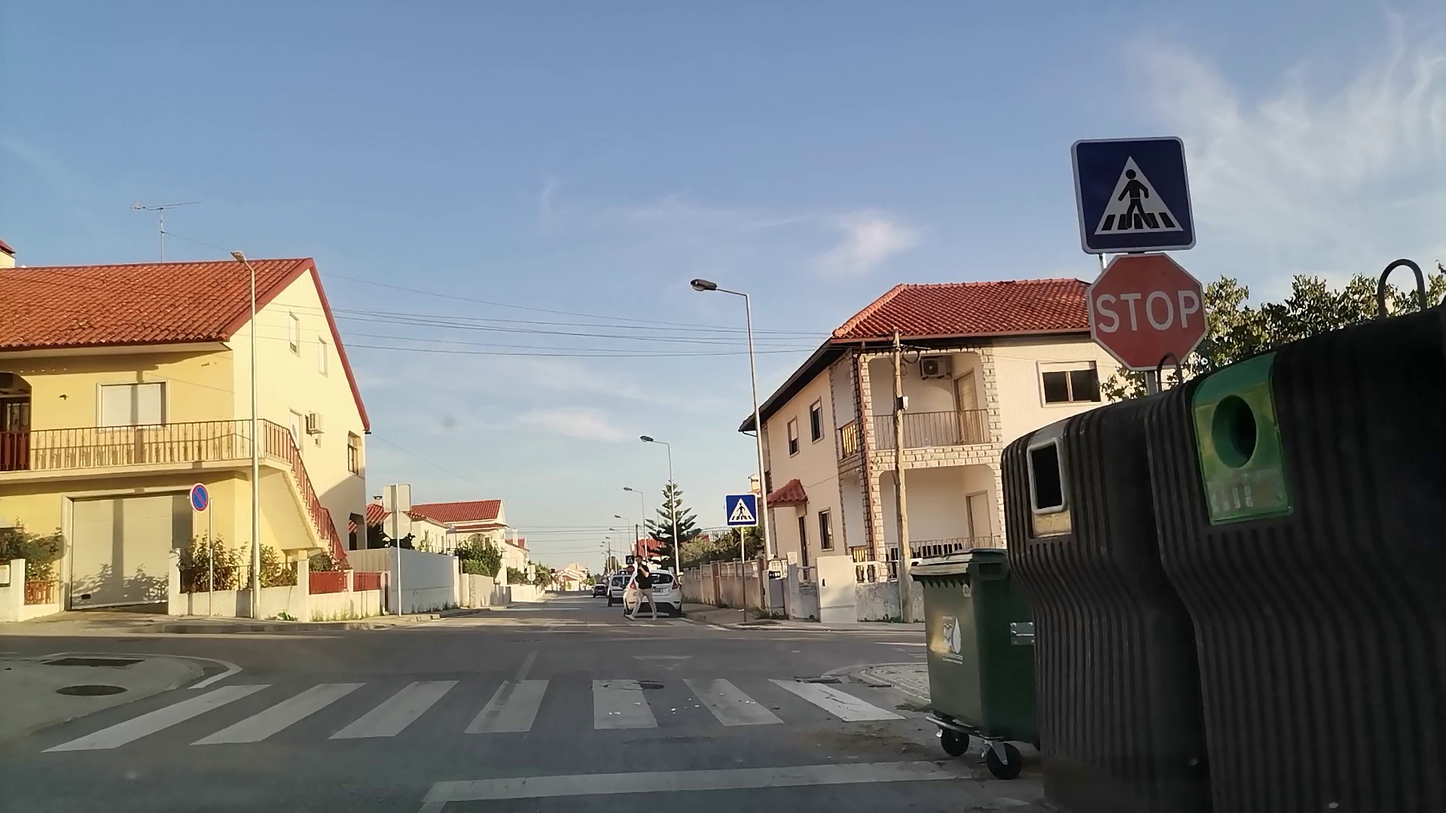Stairs: (40, 674, 909, 755)
